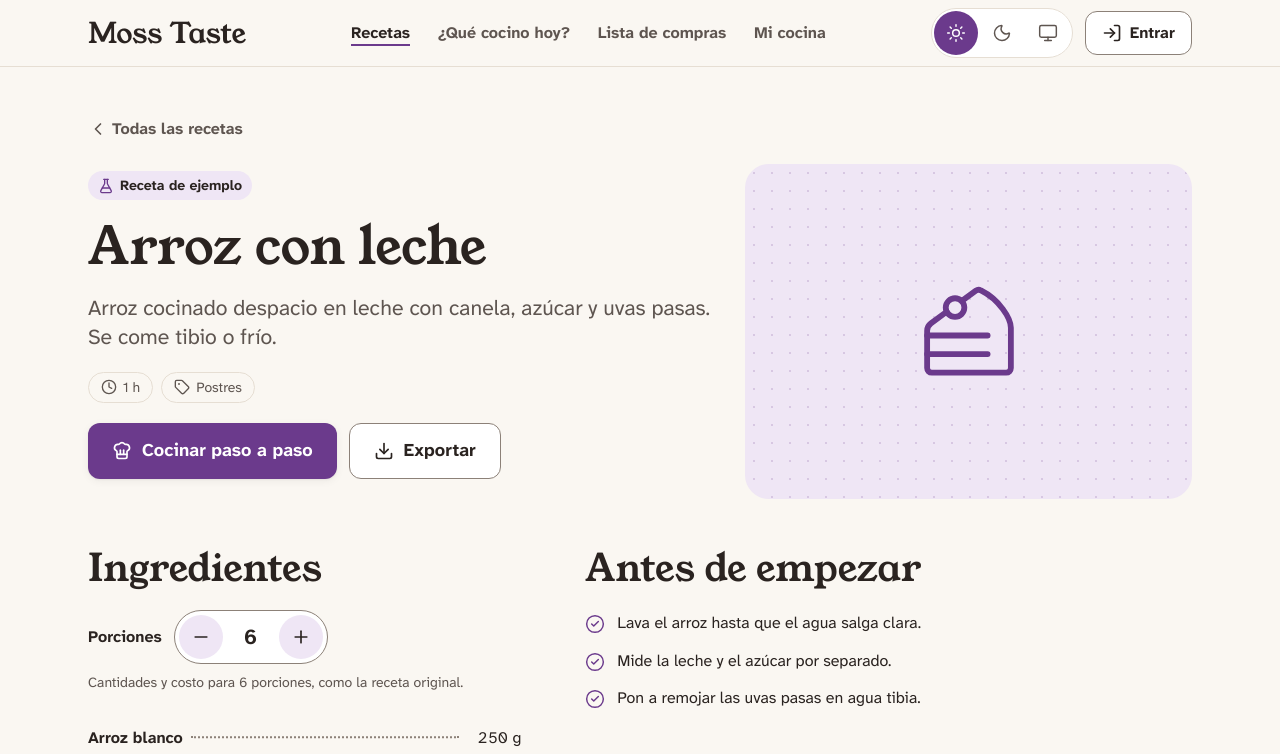
Test: modo lectura › exportar avisa que llega después
The image size is (1280, 754).
Check: the heading "Arroz con leche" is shown, box left=88, top=210, right=486, bottom=283
What coordinates should you click on to do the following:
click the button "Exportar"
I would click on:
 (425, 451)
Its box is left=349, top=423, right=501, bottom=479.
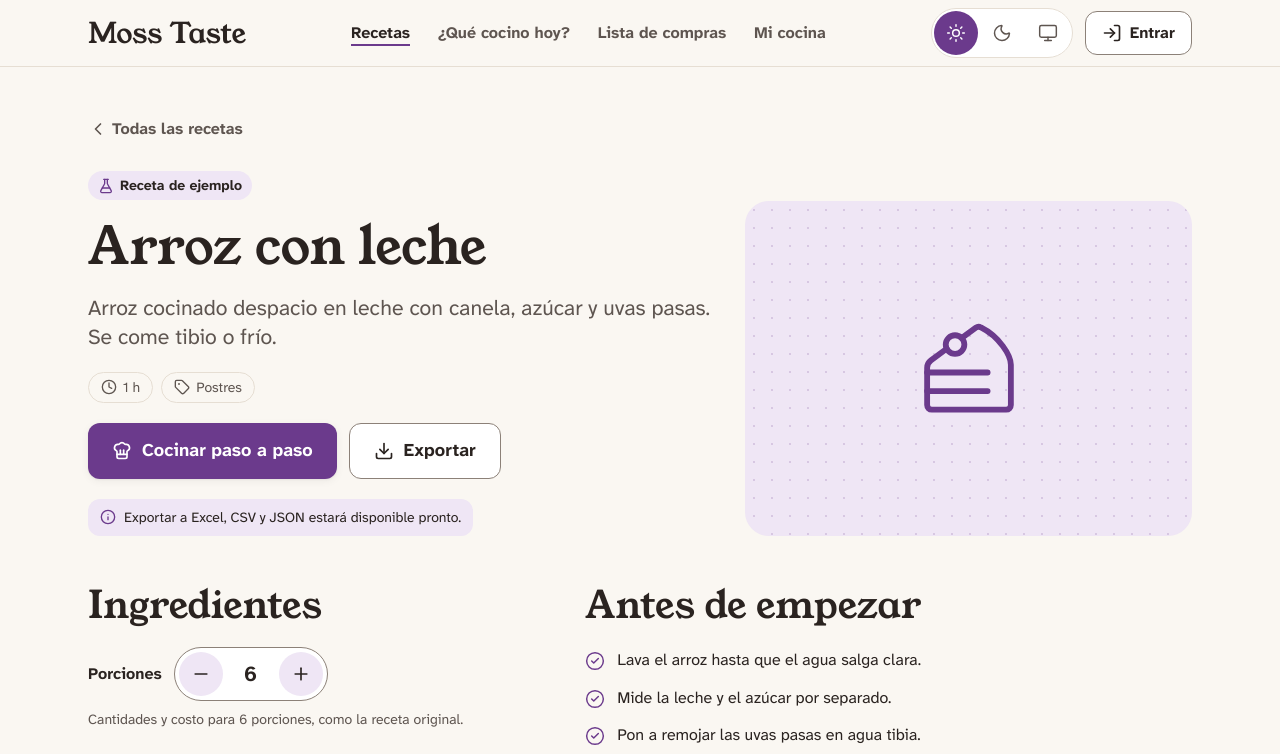
Check: the text "Exportar a Excel, CSV y JSON estará disponible pronto." is shown, box left=88, top=499, right=473, bottom=536
